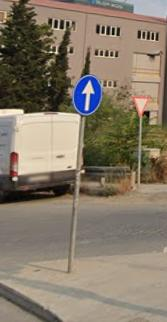forward: (72, 75, 103, 117)
